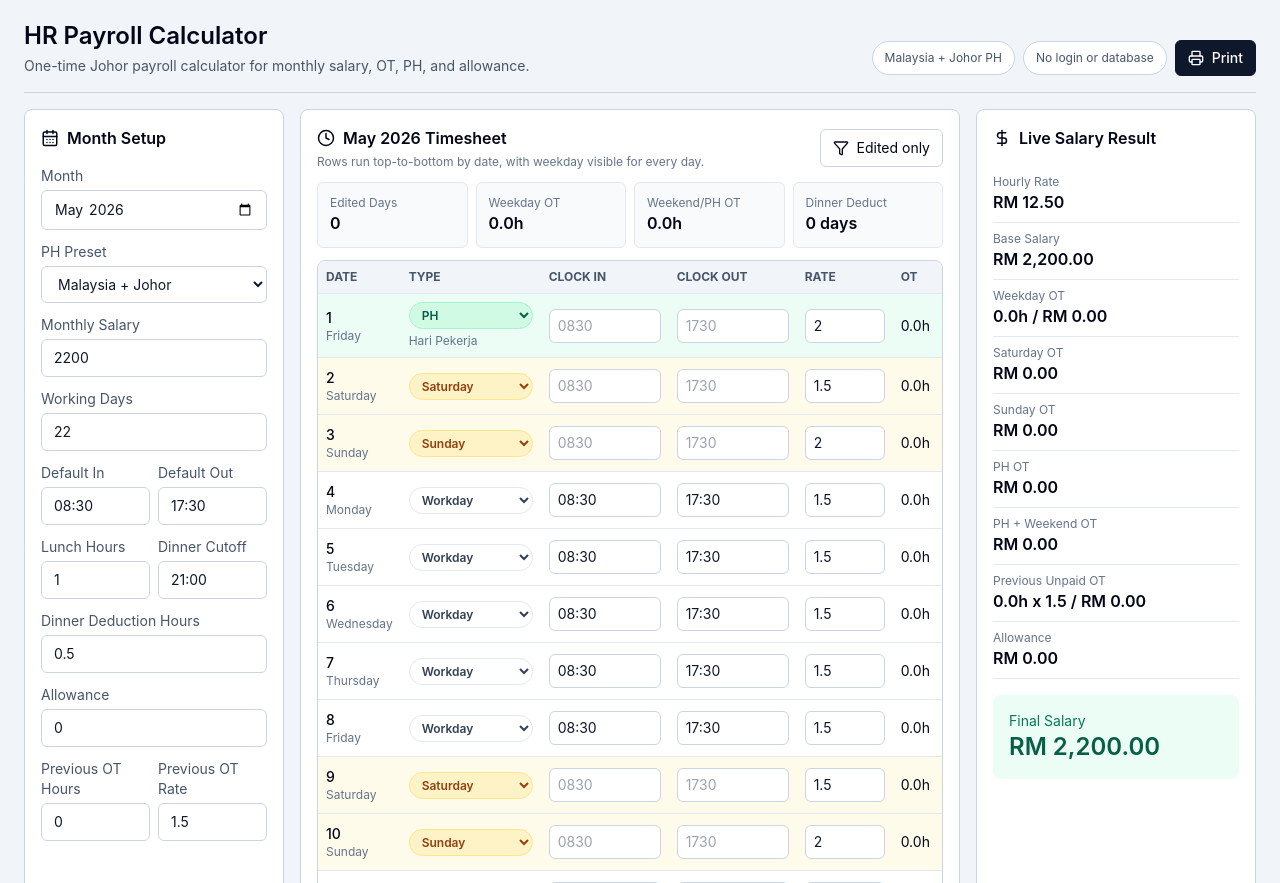
Payroll workbench › moves to the next row in the same time column when Enter is pressed
Replace the text in the field named "2026-05-06 clock in" with "0730" at (605, 614), box top-left (549, 597), bottom-right (661, 631)
Then press Enter
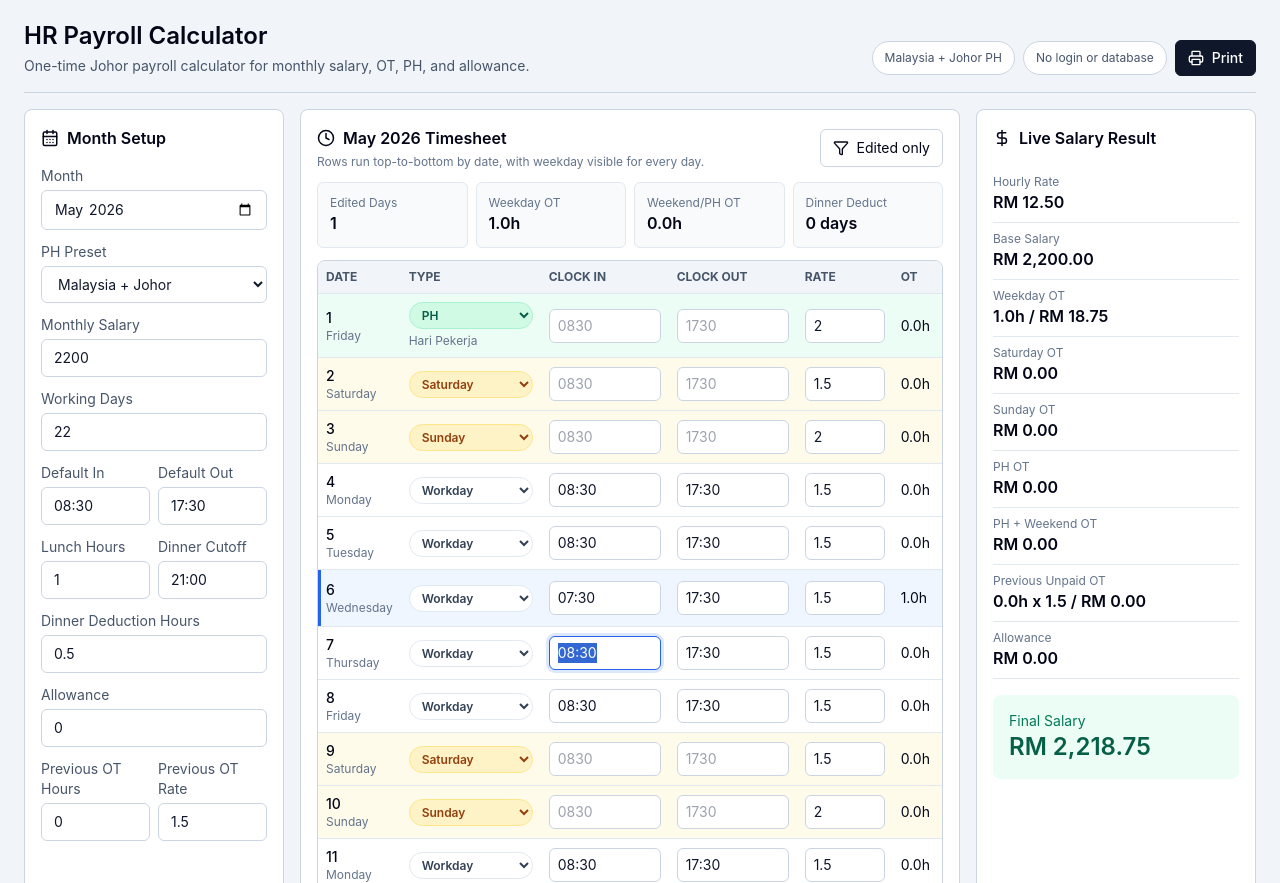
Expected: the field named "2026-05-06 clock in" holds "07:30", top-left (549, 581), bottom-right (661, 615)
